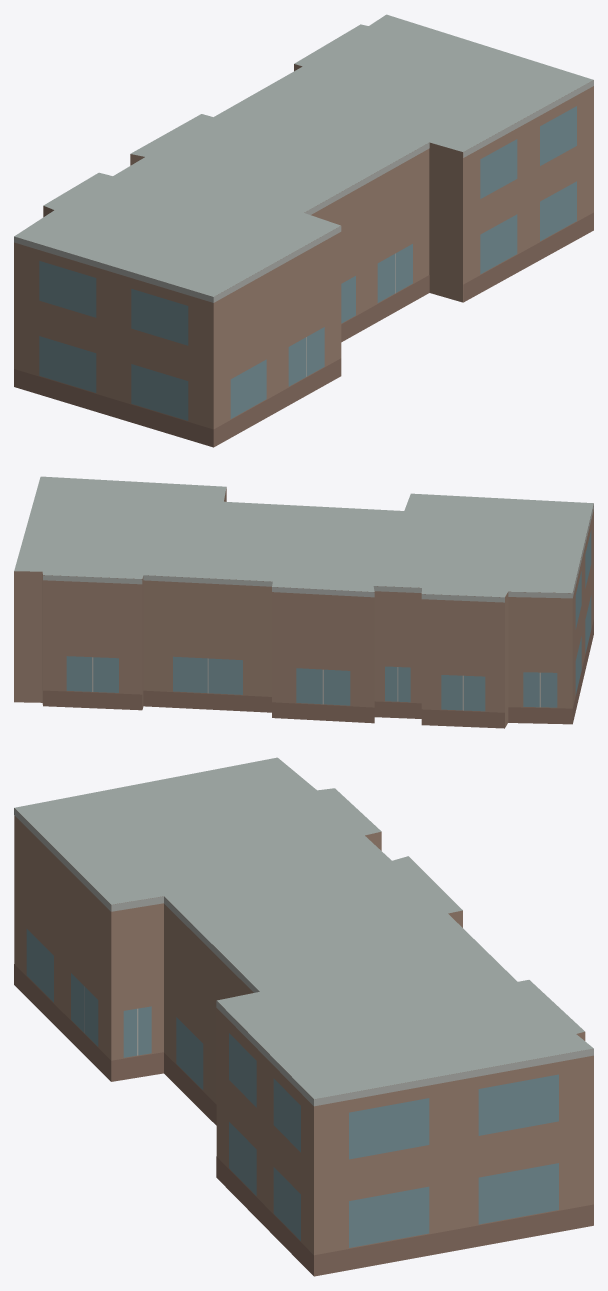
Rendered from survey-upis-32498216.glb.
The picture shows the model from 3 angles, top to bottom: view 1: azimuth 30°, elevation 25°; view 2: azimuth 150°, elevation 25°; view 3: azimuth 270°, elevation 25°; orthographic projection. The views are drawn at different scales.
Visible parts, largest first — view 1: survey-upis-32498216.tmp; view 2: survey-upis-32498216.tmp; view 3: survey-upis-32498216.tmp.
Boxes of the visible parts, x1,y1,x2,y2 form: survey-upis-32498216.tmp: (14,14,593,447); survey-upis-32498216.tmp: (14,476,593,728); survey-upis-32498216.tmp: (14,757,593,1276).
Size of the model in its own units: 25.26 by 6.1 by 18.1.
